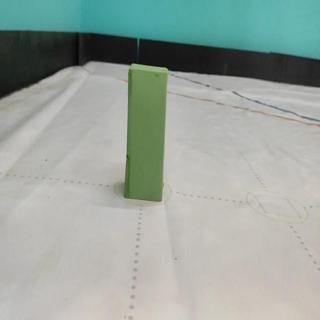greenbox: (123, 61, 170, 203)
